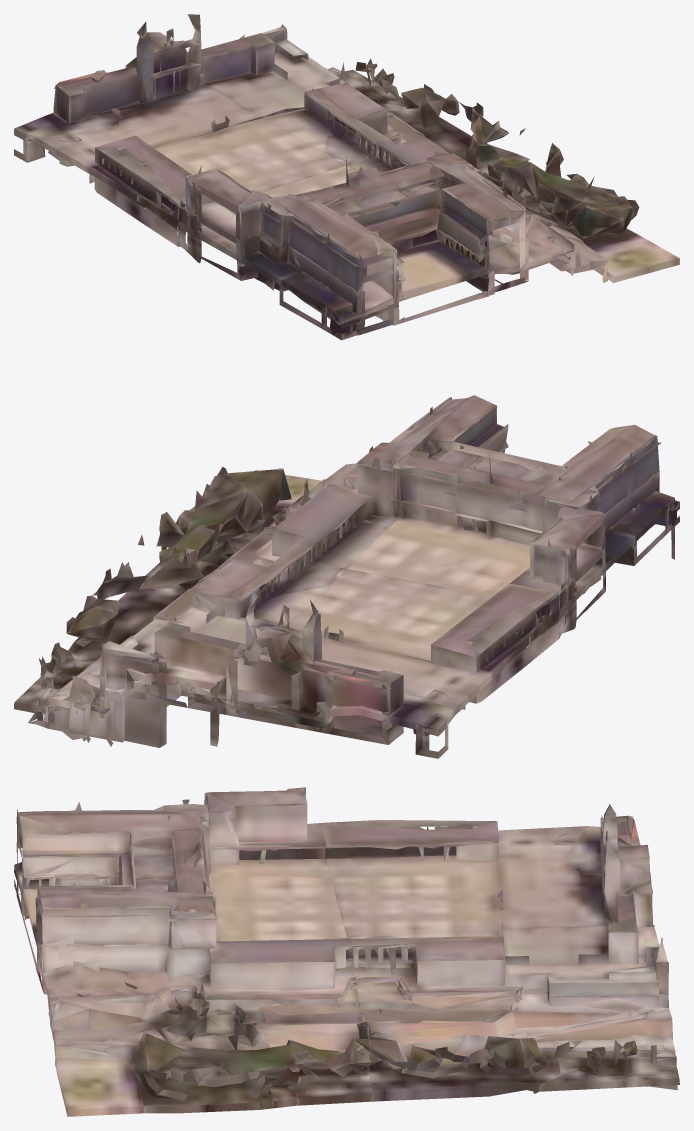
3 views of the same model, one above another, from view 1: azimuth 30°, elevation 25°; view 2: azimuth 150°, elevation 25°; view 3: azimuth 270°, elevation 25° (orthographic). The views are drawn at different scales.
Parts seen in each view (by area): view 1: Mesh_0; view 2: Mesh_0; view 3: Mesh_0.
Boxes of the visible parts, x1=… form: Mesh_0: x1=14, y1=14, x2=679, y2=340; Mesh_0: x1=14, y1=395, x2=679, y2=758; Mesh_0: x1=14, y1=787, x2=679, y2=1116.
Bounding box in the file's own units: 266 × 97.47 × 330.
Materials: 1 (1 with a texture image).
